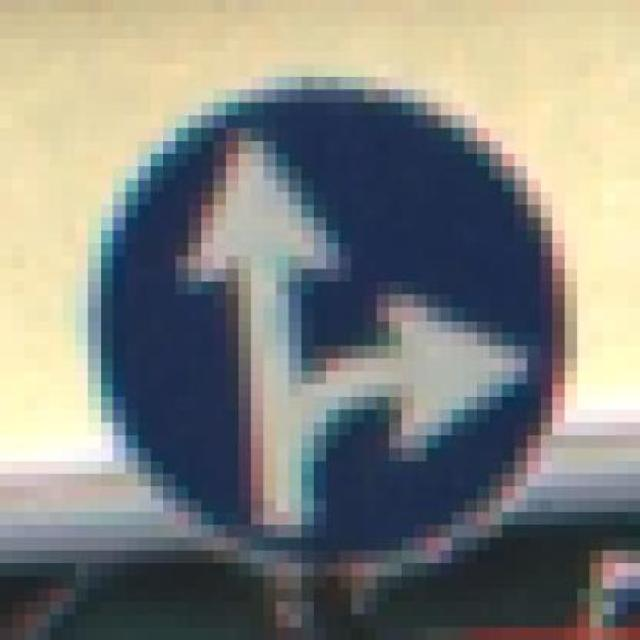Go Straight or Turn Right: (62, 64, 590, 588)
